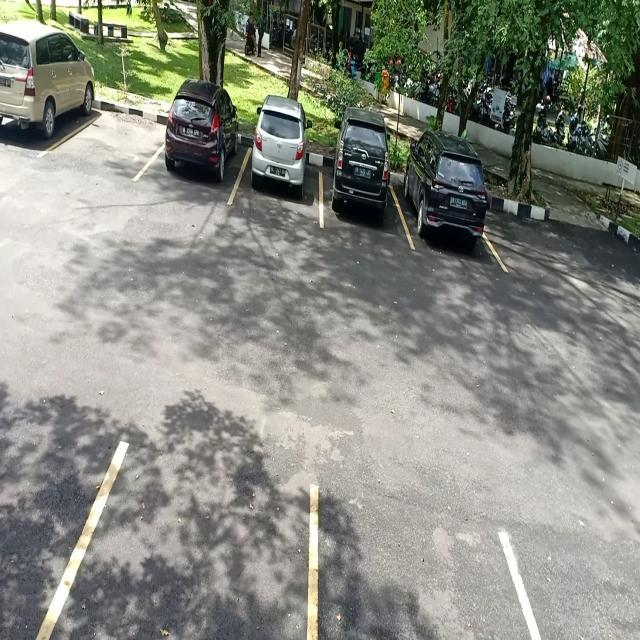empty: (72, 98, 162, 181)
occupied: (0, 51, 96, 158), (400, 141, 492, 249), (243, 120, 322, 225), (159, 108, 242, 202), (320, 140, 401, 230)
